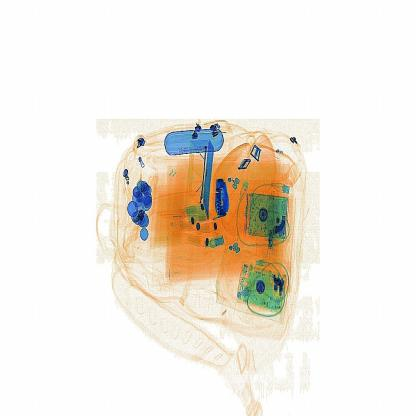scissors: (206, 170, 236, 225)
